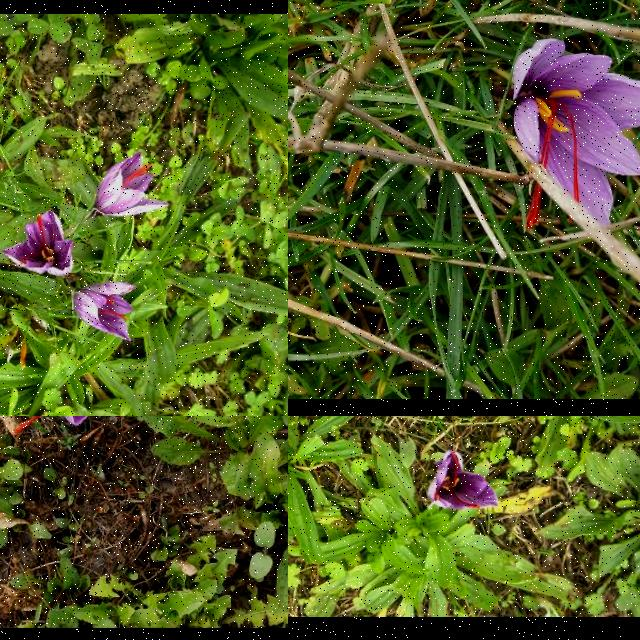flower: (512, 38, 640, 231), (96, 151, 170, 215), (4, 209, 74, 275), (428, 450, 497, 512), (74, 281, 136, 343), (15, 416, 125, 433)
